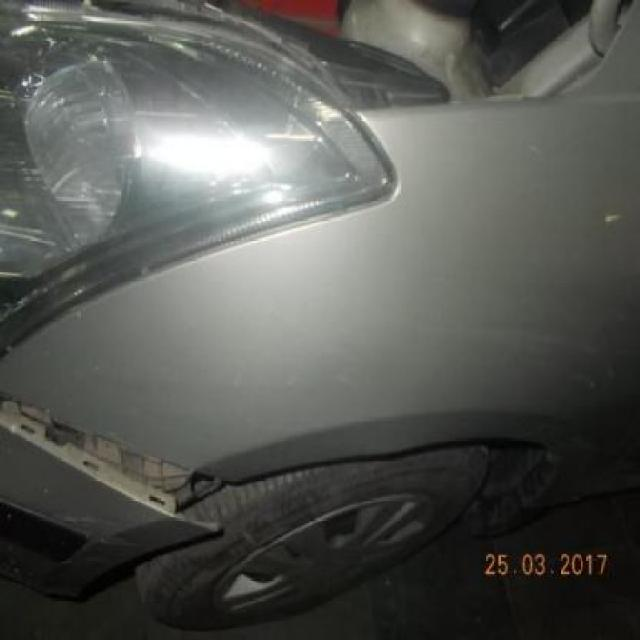damage: (0, 391, 233, 540)
